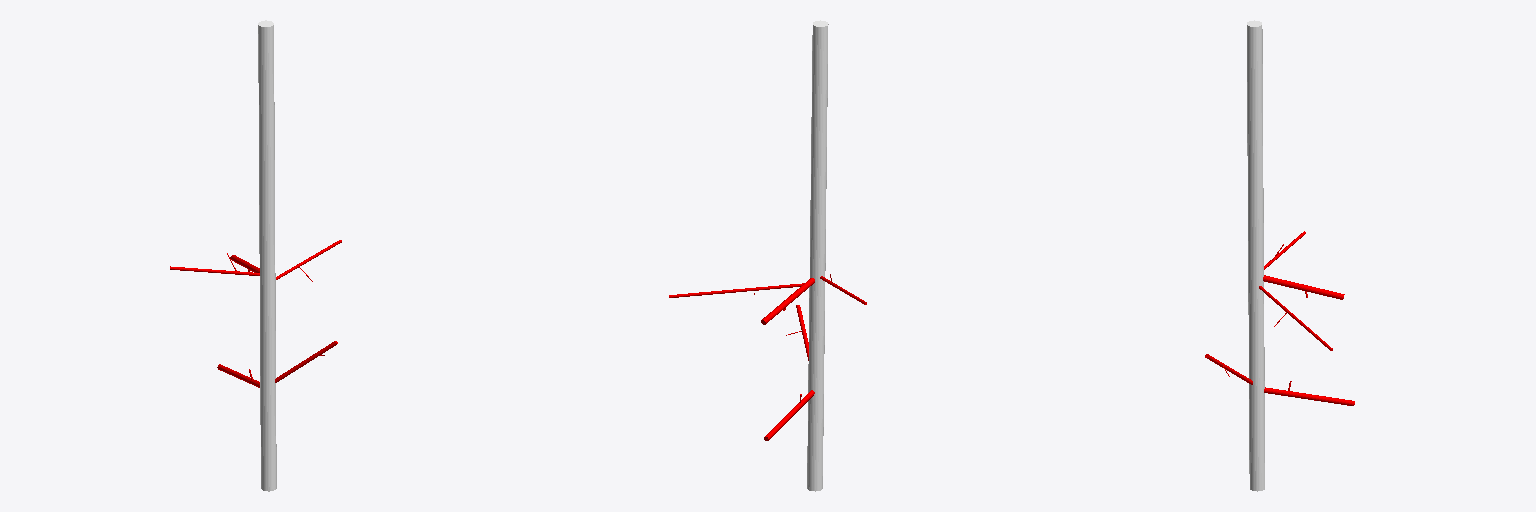
The robot description file, URDF, robot "tree_145.urdf":
<?xml version='1.0' encoding='UTF-8'?>
<robot name="tree_145.urdf">
  <link name="branch_0">
    <inertial>
      <origin xyz="0.0 0.0 0.0" rpy="0.0 -0.0 0.0"/>
      <mass value="0.1"/>
      <inertia ixx="0.001" ixy="0.0" ixz="0.0" iyy="0.001" iyz="0.0" izz="0.001"/>
    </inertial>
    <visual name="branch_0_visual">
      <geometry>
        <cylinder radius="0.183675135539199" length="11.853002849527854"/>
      </geometry>
      <material name="branch_material"/>
      <origin xyz="-0.055760317758359684 -0.034020578977184385 5.926141453331873" rpy="0.0 0.011021787089628001 -2.5937639600938183"/>
    </visual>
    <collision name="branch_0_collision">
      <geometry>
        <cylinder radius="0.183675135539199" length="11.853002849527854"/>
      </geometry>
      <origin xyz="-0.055760317758359684 -0.034020578977184385 5.926141453331873" rpy="0.0 0.011021787089628001 -2.5937639600938183"/>
    </collision>
  </link>
  <link name="branch_1">
    <inertial>
      <origin xyz="0.0 0.0 0.0" rpy="0.0 -0.0 0.0"/>
      <mass value="0.1"/>
      <inertia ixx="0.001" ixy="0.0" ixz="0.0" iyy="0.001" iyz="0.0" izz="0.001"/>
    </inertial>
    <visual name="branch_1_visual">
      <geometry>
        <cylinder radius="0.0495217206446818" length="2.0920044349817424"/>
      </geometry>
      <material name="semantic_material"/>
      <origin xyz="0.0 0.0 0.0" rpy="0.0 -0.0 0.0"/>
    </visual>
    <collision name="branch_1_collision">
      <geometry>
        <cylinder radius="0.0495217206446818" length="2.0920044349817424"/>
      </geometry>
      <origin xyz="0.0 0.0 0.0" rpy="0.0 -0.0 0.0"/>
    </collision>
  </link>
  <link name="branch_2">
    <inertial>
      <origin xyz="0.0 0.0 0.0" rpy="0.0 -0.0 0.0"/>
      <mass value="0.1"/>
      <inertia ixx="0.001" ixy="0.0" ixz="0.0" iyy="0.001" iyz="0.0" izz="0.001"/>
    </inertial>
    <visual name="branch_2_visual">
      <geometry>
        <cylinder radius="0.010264008158098862" length="0.44121699094049305"/>
      </geometry>
      <material name="semantic_material"/>
      <origin xyz="0.0 0.0 0.0" rpy="0.0 -0.0 0.0"/>
    </visual>
    <collision name="branch_2_collision">
      <geometry>
        <cylinder radius="0.010264008158098862" length="0.44121699094049305"/>
      </geometry>
      <origin xyz="0.0 0.0 0.0" rpy="0.0 -0.0 0.0"/>
    </collision>
  </link>
  <link name="branch_3">
    <inertial>
      <origin xyz="0.0 0.0 0.0" rpy="0.0 -0.0 0.0"/>
      <mass value="0.1"/>
      <inertia ixx="0.001" ixy="0.0" ixz="0.0" iyy="0.001" iyz="0.0" izz="0.001"/>
    </inertial>
    <visual name="branch_3_visual">
      <geometry>
        <cylinder radius="0.03824040549125013" length="2.2566658539256617"/>
      </geometry>
      <material name="semantic_material"/>
      <origin xyz="0.0 0.0 0.0" rpy="0.0 -0.0 0.0"/>
    </visual>
    <collision name="branch_3_collision">
      <geometry>
        <cylinder radius="0.03824040549125013" length="2.2566658539256617"/>
      </geometry>
      <origin xyz="0.0 0.0 0.0" rpy="0.0 -0.0 0.0"/>
    </collision>
  </link>
  <link name="branch_4">
    <inertial>
      <origin xyz="0.0 0.0 0.0" rpy="0.0 -0.0 0.0"/>
      <mass value="0.1"/>
      <inertia ixx="0.001" ixy="0.0" ixz="0.0" iyy="0.001" iyz="0.0" izz="0.001"/>
    </inertial>
    <visual name="branch_4_visual">
      <geometry>
        <cylinder radius="0.012267743264658834" length="0.5023031875383747"/>
      </geometry>
      <material name="semantic_material"/>
      <origin xyz="0.0 0.0 0.0" rpy="0.0 -0.0 0.0"/>
    </visual>
    <collision name="branch_4_collision">
      <geometry>
        <cylinder radius="0.012267743264658834" length="0.5023031875383747"/>
      </geometry>
      <origin xyz="0.0 0.0 0.0" rpy="0.0 -0.0 0.0"/>
    </collision>
  </link>
  <link name="branch_5">
    <inertial>
      <origin xyz="0.0 0.0 0.0" rpy="0.0 -0.0 0.0"/>
      <mass value="0.1"/>
      <inertia ixx="0.001" ixy="0.0" ixz="0.0" iyy="0.001" iyz="0.0" izz="0.001"/>
    </inertial>
    <visual name="branch_5_visual">
      <geometry>
        <cylinder radius="0.07167490980163957" length="2.096079292465898"/>
      </geometry>
      <material name="semantic_material"/>
      <origin xyz="0.0 0.0 0.0" rpy="0.0 -0.0 0.0"/>
    </visual>
    <collision name="branch_5_collision">
      <geometry>
        <cylinder radius="0.07167490980163957" length="2.096079292465898"/>
      </geometry>
      <origin xyz="0.0 0.0 0.0" rpy="0.0 -0.0 0.0"/>
    </collision>
  </link>
  <link name="branch_6">
    <inertial>
      <origin xyz="0.0 0.0 0.0" rpy="0.0 -0.0 0.0"/>
      <mass value="0.1"/>
      <inertia ixx="0.001" ixy="0.0" ixz="0.0" iyy="0.001" iyz="0.0" izz="0.001"/>
    </inertial>
    <visual name="branch_6_visual">
      <geometry>
        <cylinder radius="0.025072414339963444" length="0.23995947053600922"/>
      </geometry>
      <material name="semantic_material"/>
      <origin xyz="0.0 0.0 0.0" rpy="0.0 -0.0 0.0"/>
    </visual>
    <collision name="branch_6_collision">
      <geometry>
        <cylinder radius="0.025072414339963444" length="0.23995947053600922"/>
      </geometry>
      <origin xyz="0.0 0.0 0.0" rpy="0.0 -0.0 0.0"/>
    </collision>
  </link>
  <link name="branch_7">
    <inertial>
      <origin xyz="0.0 0.0 0.0" rpy="0.0 -0.0 0.0"/>
      <mass value="0.1"/>
      <inertia ixx="0.001" ixy="0.0" ixz="0.0" iyy="0.001" iyz="0.0" izz="0.001"/>
    </inertial>
    <visual name="branch_7_visual">
      <geometry>
        <cylinder radius="0.06541519150633908" length="2.2980351316540073"/>
      </geometry>
      <material name="semantic_material"/>
      <origin xyz="0.0 0.0 0.0" rpy="0.0 -0.0 0.0"/>
    </visual>
    <collision name="branch_7_collision">
      <geometry>
        <cylinder radius="0.06541519150633908" length="2.2980351316540073"/>
      </geometry>
      <origin xyz="0.0 0.0 0.0" rpy="0.0 -0.0 0.0"/>
    </collision>
  </link>
  <link name="branch_8">
    <inertial>
      <origin xyz="0.0 0.0 0.0" rpy="0.0 -0.0 0.0"/>
      <mass value="0.1"/>
      <inertia ixx="0.001" ixy="0.0" ixz="0.0" iyy="0.001" iyz="0.0" izz="0.001"/>
    </inertial>
    <visual name="branch_8_visual">
      <geometry>
        <cylinder radius="0.020368114081577737" length="0.3136066062820478"/>
      </geometry>
      <material name="semantic_material"/>
      <origin xyz="0.0 0.0 0.0" rpy="0.0 -0.0 0.0"/>
    </visual>
    <collision name="branch_8_collision">
      <geometry>
        <cylinder radius="0.020368114081577737" length="0.3136066062820478"/>
      </geometry>
      <origin xyz="0.0 0.0 0.0" rpy="0.0 -0.0 0.0"/>
    </collision>
  </link>
  <link name="branch_9">
    <inertial>
      <origin xyz="0.0 0.0 0.0" rpy="0.0 -0.0 0.0"/>
      <mass value="0.1"/>
      <inertia ixx="0.001" ixy="0.0" ixz="0.0" iyy="0.001" iyz="0.0" izz="0.001"/>
    </inertial>
    <visual name="branch_9_visual">
      <geometry>
        <cylinder radius="0.03714465858784571" length="3.455933287234664"/>
      </geometry>
      <material name="semantic_material"/>
      <origin xyz="0.0 0.0 0.0" rpy="0.0 -0.0 0.0"/>
    </visual>
    <collision name="branch_9_collision">
      <geometry>
        <cylinder radius="0.03714465858784571" length="3.455933287234664"/>
      </geometry>
      <origin xyz="0.0 0.0 0.0" rpy="0.0 -0.0 0.0"/>
    </collision>
  </link>
  <link name="branch_10">
    <inertial>
      <origin xyz="0.0 0.0 0.0" rpy="0.0 -0.0 0.0"/>
      <mass value="0.1"/>
      <inertia ixx="0.001" ixy="0.0" ixz="0.0" iyy="0.001" iyz="0.0" izz="0.001"/>
    </inertial>
    <visual name="branch_10_visual">
      <geometry>
        <cylinder radius="0.010146059261538987" length="0.4936156262876586"/>
      </geometry>
      <material name="semantic_material"/>
      <origin xyz="0.0 0.0 0.0" rpy="0.0 -0.0 0.0"/>
    </visual>
    <collision name="branch_10_collision">
      <geometry>
        <cylinder radius="0.010146059261538987" length="0.4936156262876586"/>
      </geometry>
      <origin xyz="0.0 0.0 0.0" rpy="0.0 -0.0 0.0"/>
    </collision>
  </link>
  <joint name="joint_0_1" type="fixed">
    <parent link="branch_0"/>
    <child link="branch_1"/>
    <axis xyz="1. 0. 0."/>
    <origin xyz="0.5519417505746685 -0.5961589905148861 3.267099896045135" rpy="0.01718725776276652 0.8987457083153134 -0.7673971167740045"/>
  </joint>
  <joint name="joint_0_3" type="fixed">
    <parent link="branch_0"/>
    <child link="branch_3"/>
    <axis xyz="1. 0. 0."/>
    <origin xyz="-1.0246172091089378 0.5322689372498736 5.52571842599467" rpy="-0.12163935365473715 1.4908880386541068 2.4948549981234156"/>
  </joint>
  <joint name="joint_0_5" type="fixed">
    <parent link="branch_0"/>
    <child link="branch_5"/>
    <axis xyz="1. 0. 0."/>
    <origin xyz="0.08143131473891452 0.9880590354295774 5.19974775140421" rpy="-3.0978002174479236 1.3729863707722632 -1.655226817942893"/>
  </joint>
  <joint name="joint_0_7" type="fixed">
    <parent link="branch_0"/>
    <child link="branch_7"/>
    <axis xyz="1. 0. 0."/>
    <origin xyz="-0.012812363427727073 1.119454673984687 2.349643785126881" rpy="-3.083454932955941 1.408979517532309 -1.521621359946554"/>
  </joint>
  <joint name="joint_0_9" type="fixed">
    <parent link="branch_0"/>
    <child link="branch_9"/>
    <axis xyz="1. 0. 0."/>
    <origin xyz="1.4310552512946708 0.8476407469653775 5.060872113818509" rpy="3.1400633226423476 1.4794856396247393 -2.6079389798720487"/>
  </joint>
  <joint name="joint_1_2" type="fixed">
    <parent link="branch_0"/>
    <child link="branch_2"/>
    <axis xyz="1. 0. 0."/>
    <origin xyz="0.9590499566188447 -0.726516373717221 3.4430088045159333" rpy="2.0014967917255273 0.6909809064381726 2.3010593950040277"/>
  </joint>
  <joint name="joint_3_4" type="fixed">
    <parent link="branch_0"/>
    <child link="branch_4"/>
    <axis xyz="1. 0. 0."/>
    <origin xyz="-0.7054578315426024 0.46390217418866847 5.69092446318626" rpy="-0.5336399676347784 -0.4012944943182103 -0.255769663484188"/>
  </joint>
  <joint name="joint_5_6" type="fixed">
    <parent link="branch_0"/>
    <child link="branch_6"/>
    <axis xyz="1. 0. 0."/>
    <origin xyz="0.12633406444076953 1.1291713502815042 5.068531450674847" rpy="-2.8756220006798747 0.3159438441373184 -1.563757903854313"/>
  </joint>
  <joint name="joint_7_8" type="fixed">
    <parent link="branch_0"/>
    <child link="branch_8"/>
    <axis xyz="1. 0. 0."/>
    <origin xyz="-0.04284584548926215 0.7423063918360538 2.5674047232227113" rpy="0.17151547524875674 -0.2269253086966945 -1.591991475711792"/>
  </joint>
  <joint name="joint_9_10" type="fixed">
    <parent link="branch_0"/>
    <child link="branch_10"/>
    <axis xyz="1. 0. 0."/>
    <origin xyz="1.2878081286385052 0.5418795194670178 4.928928183820665" rpy="-2.264441325291077 -0.05196244159081923 -2.5588059613585292"/>
  </joint>
  <material name="branch_material">
    <color rgba="1. 1. 1. 1."/>
  </material>
  <material name="semantic_material">
    <color rgba="1. 0. 0. 1."/>
  </material>
</robot>

--- Render facts (derived) ---
Views: 3 orthographic renders of the robot side by side, from view 1: azimuth 30°, elevation 25°; view 2: azimuth 150°, elevation 25°; view 3: azimuth 270°, elevation 25°.
Model tree_145.urdf with 11 links and 10 joints (10 fixed), rooted at branch_0, posed all joints at 0.
Visible links, largest first — view 1: branch_0; view 2: branch_0; view 3: branch_0.
Boxes of the visible links, x1=… form: branch_0: x1=258, y1=20, x2=276, y2=491; branch_0: x1=807, y1=20, x2=828, y2=491; branch_0: x1=1247, y1=20, x2=1264, y2=491.
Bounding box of the posed robot: 4.95 × 3.48 × 11.86 m (x, y, z).
Geometry: primitives only (box / cylinder / sphere), no mesh files.
